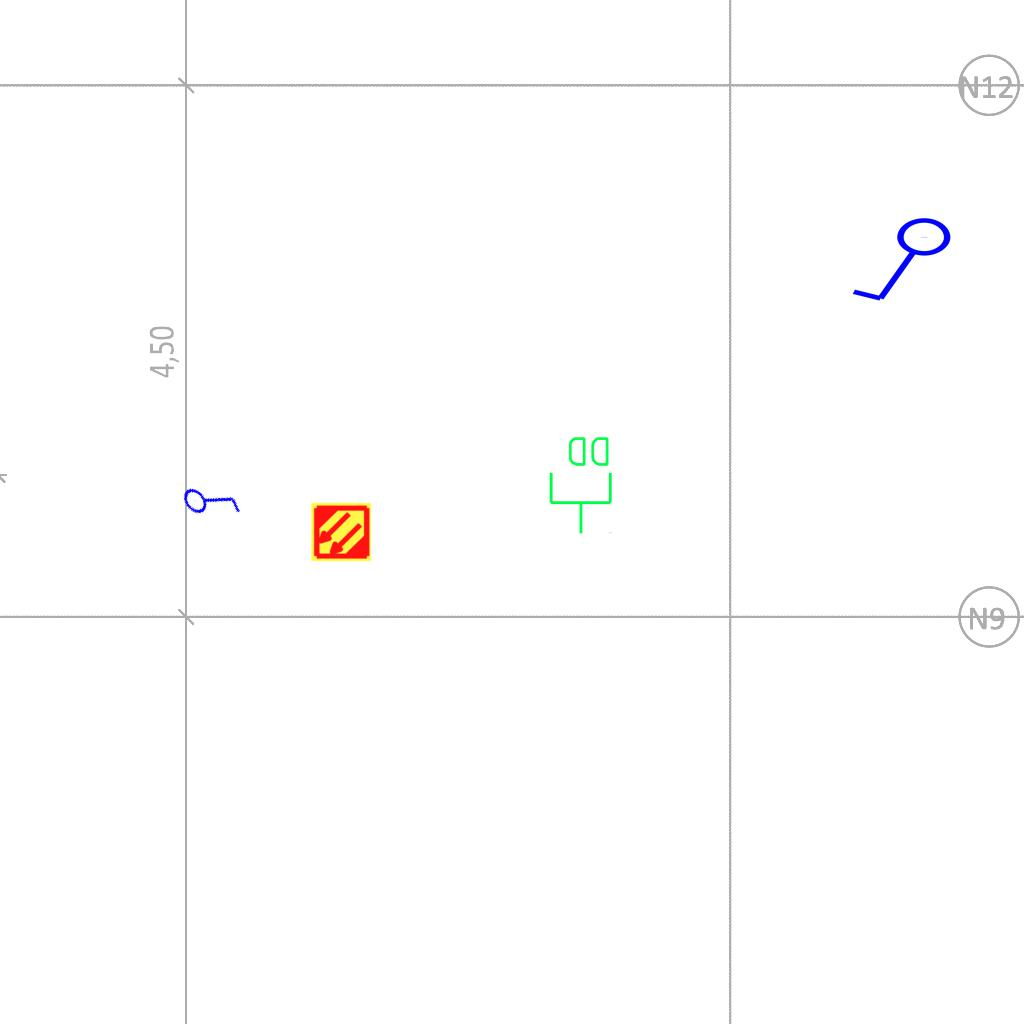ASR_Ansaugrauchmelder: (310, 501, 372, 563)
Ausschalter: (850, 215, 962, 311), (174, 463, 248, 537)
Datenanschluss_zweifach: (547, 433, 616, 536)
